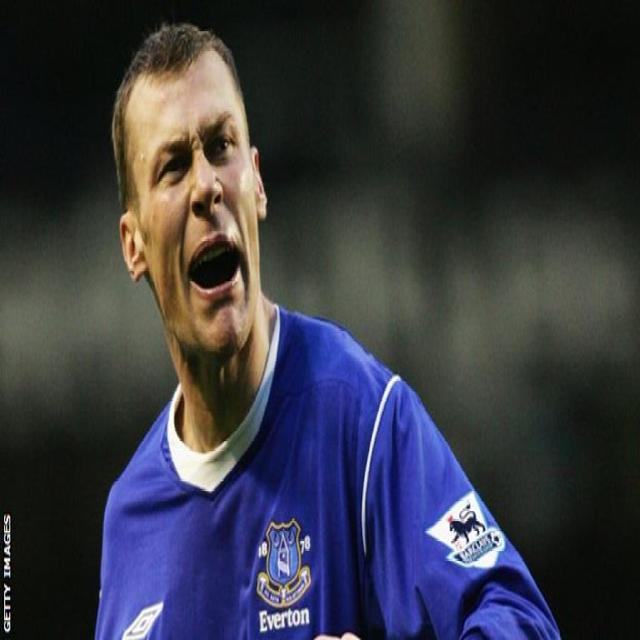Face: (118, 40, 263, 357)
